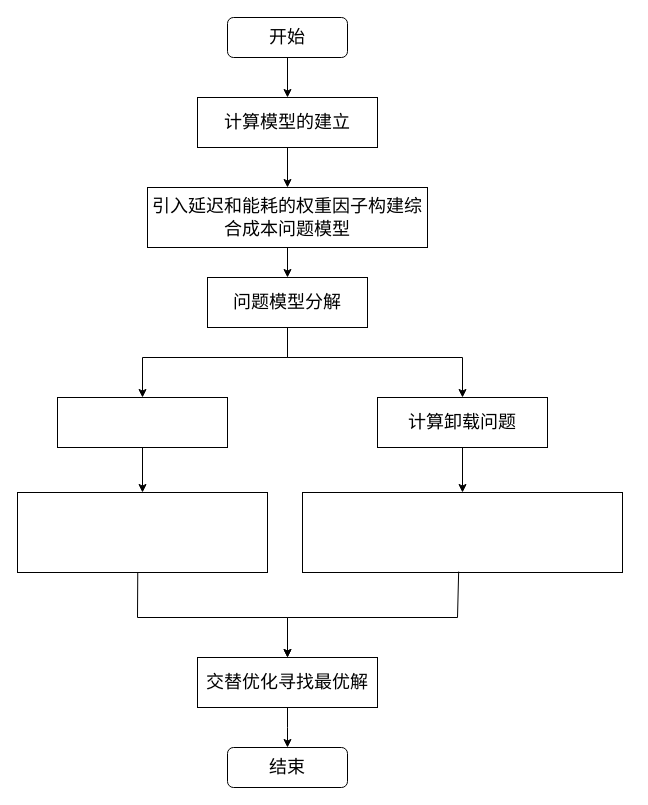
The diagram is 648 pixels wide and 805 high, and some of its shapes have lost their labels. Here are the shapes that lost their labels. From the top down, the centre of each, then its label:
pixel 142 422: 资源分配问题
pixel 142 532: 根据数学变化 转化成凸优化问题用凸优化工具解决
pixel 462 532: 将离散粒子群优化算法与混沌映射和柯西突变相结合，并基于变量更新动态调整权值和学习因子来进行优化
